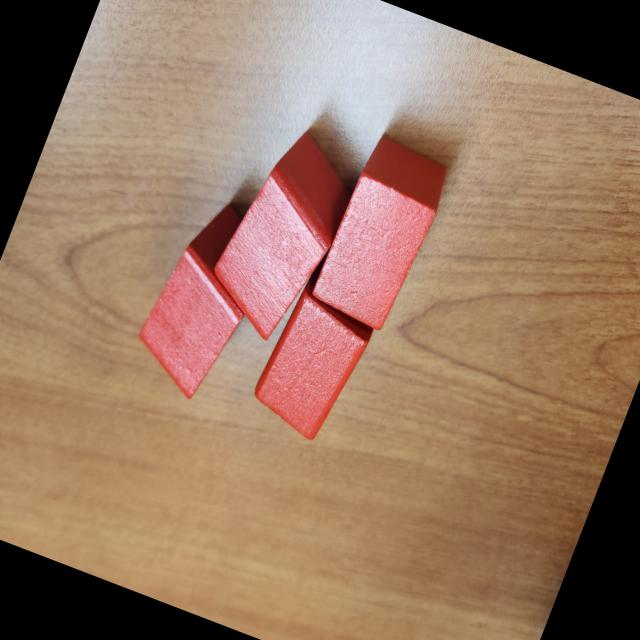red: (197, 118, 366, 350), (122, 188, 280, 410), (304, 127, 458, 336), (245, 286, 380, 450)
